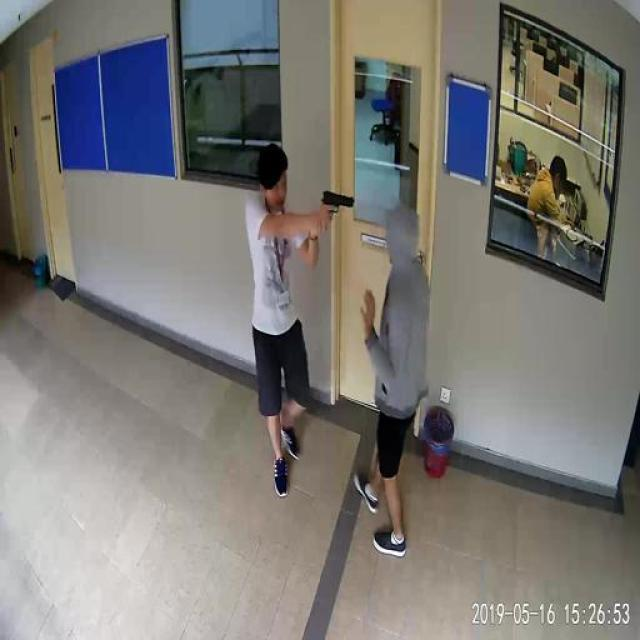Gun: (314, 184, 364, 228)
